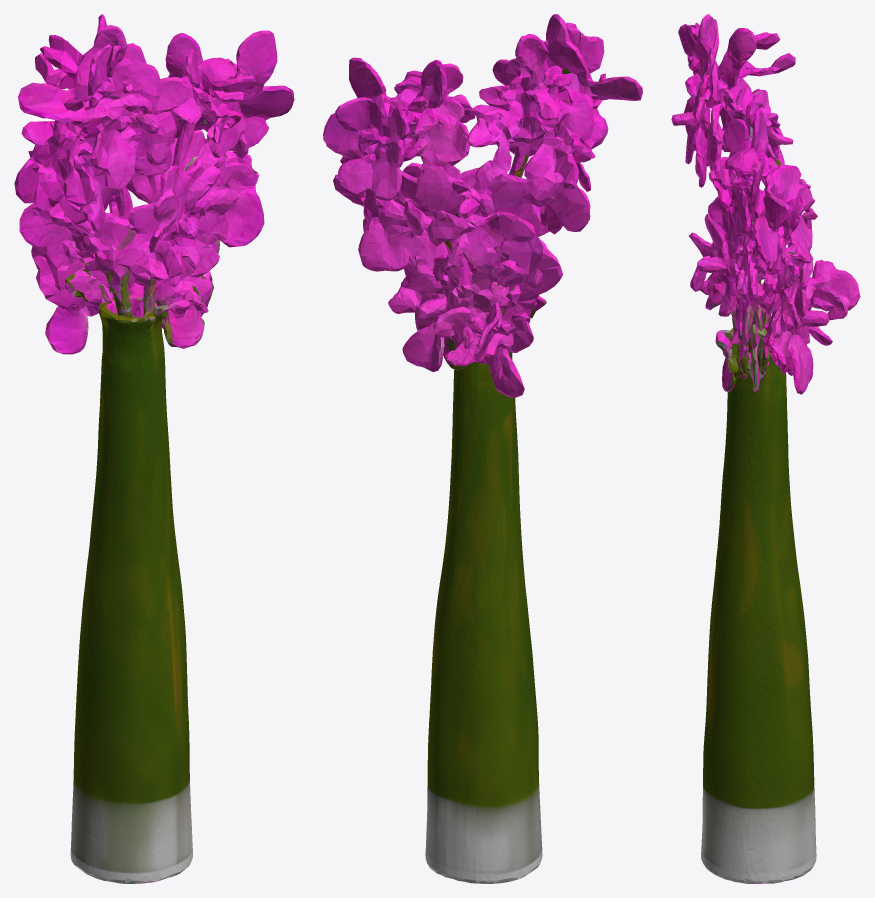
File: hunyuan3d_textured.obj
The picture shows the model from 3 angles, left to right: view 1: azimuth 30°, elevation 25°; view 2: azimuth 150°, elevation 25°; view 3: azimuth 270°, elevation 25°; orthographic projection. The views are drawn at different scales.
Visible parts, largest first — view 1: hunyuan3d_textured; view 2: hunyuan3d_textured; view 3: hunyuan3d_textured.
Part boxes in pixels (bbox=[...]): hunyuan3d_textured: bbox=[14, 14, 294, 883]; hunyuan3d_textured: bbox=[323, 14, 642, 883]; hunyuan3d_textured: bbox=[671, 14, 860, 883].
Bounding box in the file's own units: 0.699 × 1.91 × 0.3979.
1 material, 1 textured.
